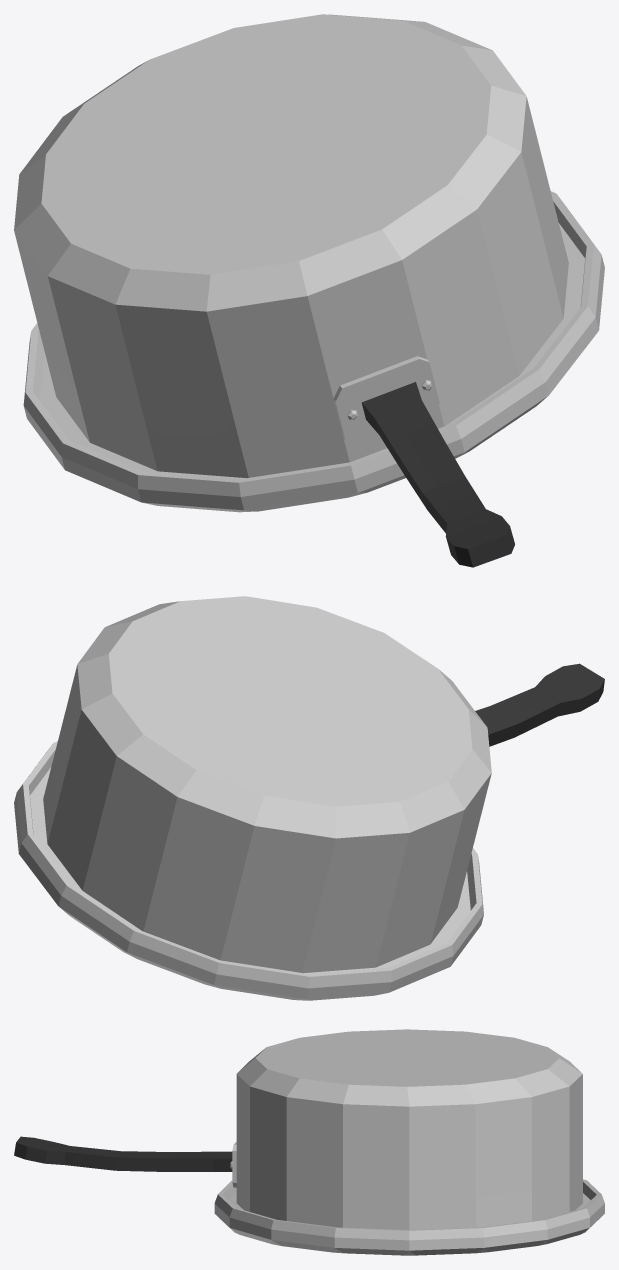
File: SAUCEPAN HAT.fbx
3 renders of one model, top to bottom at view 1: azimuth 30°, elevation 25°; view 2: azimuth 150°, elevation 25°; view 3: azimuth 270°, elevation 25°, orthographic. The views are drawn at different scales.
Visible parts, largest first — view 1: SAUCEPAN_HAT; view 2: SAUCEPAN_HAT; view 3: SAUCEPAN_HAT.
Boxes of the visible parts, left/top/right/bottom form: SAUCEPAN_HAT: left=14, top=14, right=604, bottom=567; SAUCEPAN_HAT: left=14, top=596, right=604, bottom=1000; SAUCEPAN_HAT: left=14, top=1029, right=604, bottom=1255.
Bounding box in the file's own units: 28.88 × 17.85 × 43.5.
